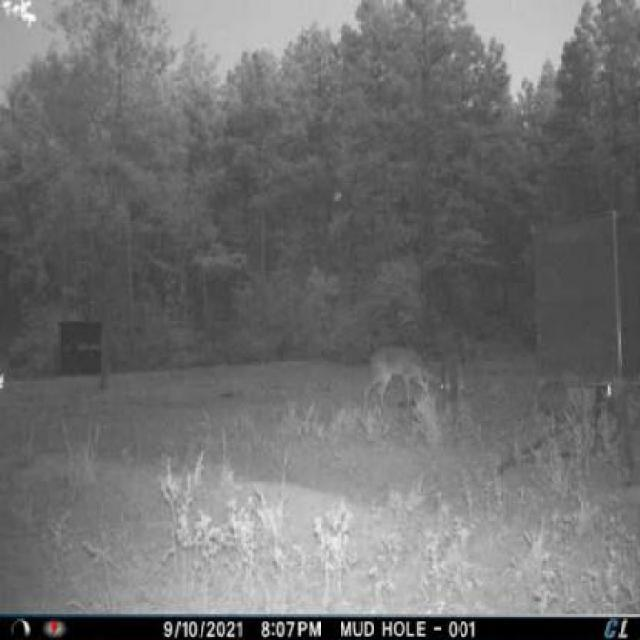Deer: (359, 338, 464, 439)
